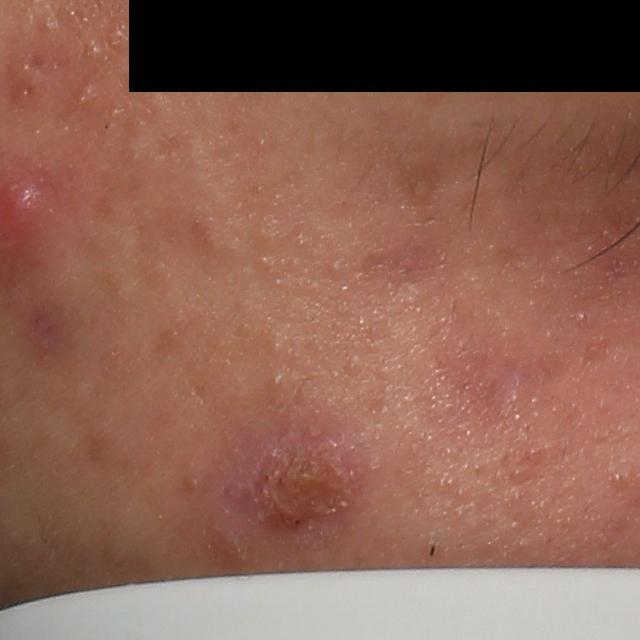nodule: (199, 406, 382, 572)
